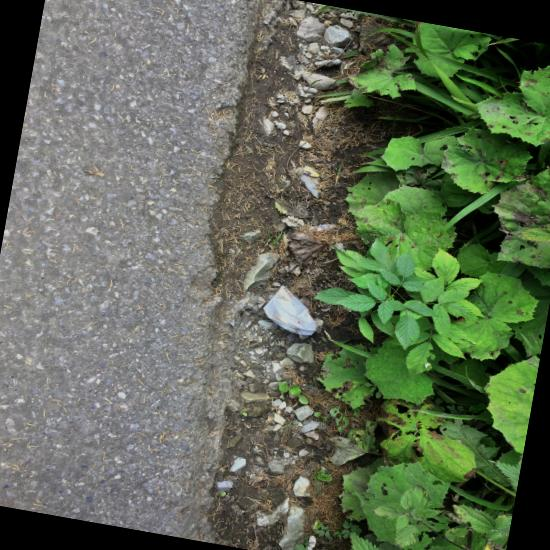Drink can: (262, 285, 321, 335)
